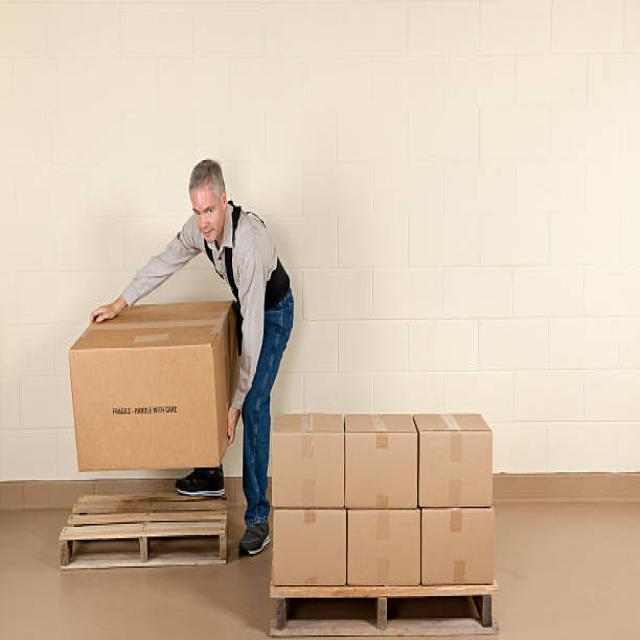Wooden-Pallets: (266, 586, 496, 640), (63, 530, 225, 568)
